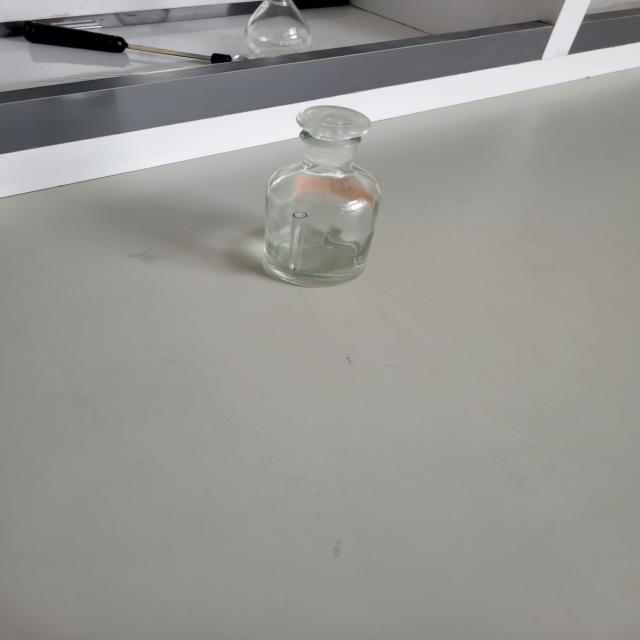Reagent_Bottle: (204, 83, 448, 302)
